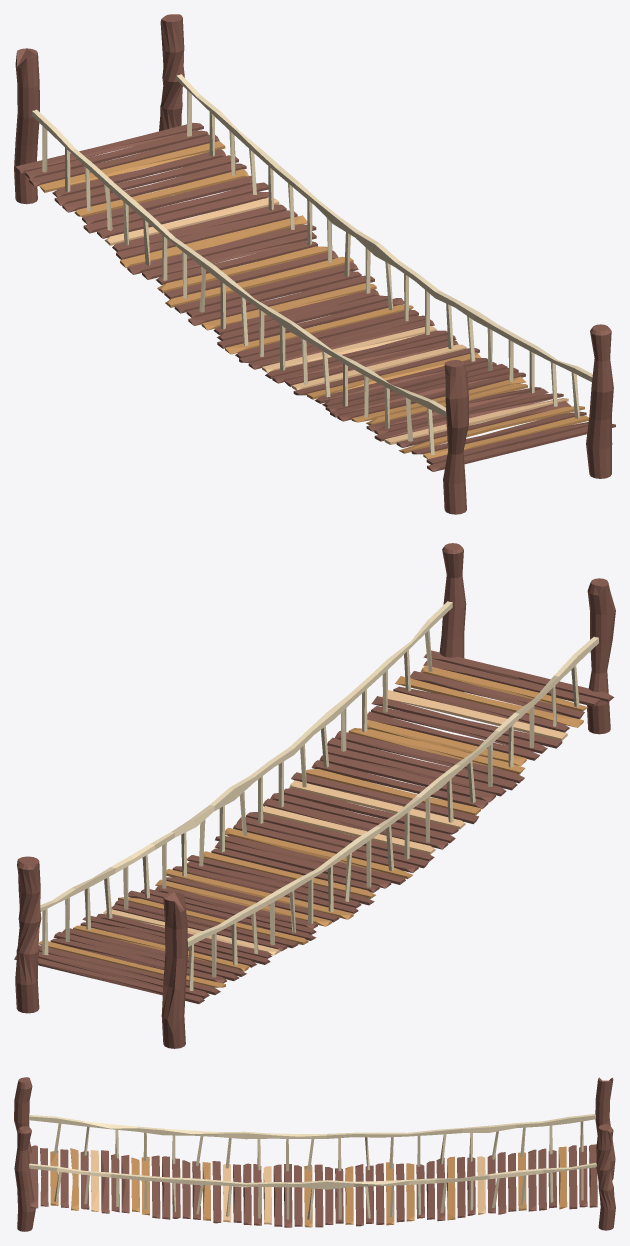
File: 005 Bridge.FBX
3 views of the same model, one above another, from view 1: azimuth 30°, elevation 25°; view 2: azimuth 150°, elevation 25°; view 3: azimuth 270°, elevation 25° (orthographic). The views are drawn at different scales.
Visible parts, largest first — view 1: Box167, Arc032, Arc031, Cylinder060, Cylinder058, Cylinder057, Cylinder059; view 2: Box167, Arc032, Arc031, Cylinder057, Cylinder059, Cylinder058, Cylinder060; view 3: Box167, Arc031, Arc032, Cylinder059, Cylinder060, Cylinder057, Cylinder058.
Part boxes in pixels (<box>): Box167: <box>15,122,615,471</box>; Arc032: <box>176,74,592,418</box>; Arc031: <box>32,109,446,454</box>; Cylinder060: <box>586,324,613,478</box>; Cylinder058: <box>443,360,468,514</box>; Cylinder057: <box>14,48,39,204</box>; Cylinder059: <box>159,14,184,131</box>; Box167: <box>14,650,614,1003</box>; Arc032: <box>40,601,452,955</box>; Arc031: <box>187,636,598,990</box>; Cylinder057: <box>161,892,187,1048</box>; Cylinder059: <box>15,856,41,1013</box>; Cylinder058: <box>587,578,615,734</box>; Cylinder060: <box>439,543,466,692</box>; Box167: <box>30,1144,597,1227</box>; Arc031: <box>29,1114,595,1171</box>; Arc032: <box>29,1162,596,1219</box>; Cylinder059: <box>596,1124,615,1230</box>; Cylinder060: <box>14,1126,35,1231</box>; Cylinder057: <box>595,1077,615,1180</box>; Cylinder058: <box>14,1077,32,1163</box>.
Bounding box in the file's own units: 803 × 600 × 3273.
